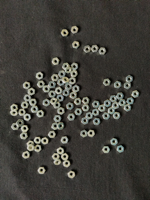nut: (22, 151, 30, 160), (68, 171, 76, 179), (38, 167, 46, 175), (52, 153, 60, 161), (27, 144, 35, 152), (34, 137, 42, 145), (49, 131, 57, 139), (54, 115, 62, 123), (93, 118, 101, 126), (86, 112, 94, 120), (113, 112, 121, 120), (108, 107, 116, 115), (104, 100, 112, 108), (110, 95, 118, 103), (124, 104, 132, 112), (37, 110, 45, 118), (55, 87, 63, 95), (28, 88, 36, 96), (23, 82, 31, 90), (36, 72, 44, 80), (51, 74, 59, 82), (71, 70, 79, 78), (71, 26, 79, 34), (16, 120, 25, 127), (11, 124, 20, 131), (53, 102, 62, 109), (117, 146, 125, 153), (103, 147, 111, 154), (111, 138, 118, 146), (54, 159, 62, 166), (57, 148, 65, 155), (88, 130, 95, 138), (81, 130, 88, 138), (61, 137, 69, 144), (35, 145, 42, 153), (20, 133, 28, 140), (21, 126, 29, 133), (57, 123, 65, 130), (52, 123, 59, 131), (82, 117, 89, 125), (93, 109, 100, 117), (103, 113, 111, 120), (68, 114, 76, 121), (24, 114, 31, 122), (82, 105, 90, 112), (83, 97, 90, 105), (113, 102, 120, 110), (119, 100, 127, 107), (117, 93, 125, 100), (127, 98, 135, 105), (125, 82, 132, 90), (126, 76, 134, 83), (115, 81, 122, 89), (103, 79, 111, 86), (75, 109, 83, 116), (75, 98, 82, 106), (19, 109, 26, 117), (10, 109, 18, 116), (31, 106, 39, 113), (21, 102, 29, 109), (29, 99, 37, 106), (24, 95, 32, 102), (50, 98, 58, 105), (43, 99, 50, 107), (57, 95, 65, 102), (63, 89, 70, 97), (73, 85, 80, 93), (66, 83, 73, 91), (43, 86, 51, 93), (37, 81, 45, 88), (49, 81, 56, 89), (57, 79, 65, 86), (69, 77, 76, 85), (62, 77, 70, 84), (62, 63, 70, 70), (72, 63, 79, 71), (52, 58, 60, 65), (99, 48, 107, 55), (92, 45, 99, 53), (84, 46, 92, 53), (73, 41, 80, 49), (61, 30, 69, 37), (64, 161, 71, 168), (62, 154, 69, 161), (27, 141, 34, 148), (42, 138, 49, 145), (93, 101, 100, 108), (99, 105, 106, 112), (133, 91, 140, 98), (58, 108, 65, 115), (67, 103, 74, 110), (11, 104, 18, 111), (70, 92, 77, 99), (49, 91, 56, 98), (59, 71, 66, 78), (65, 67, 72, 74)
